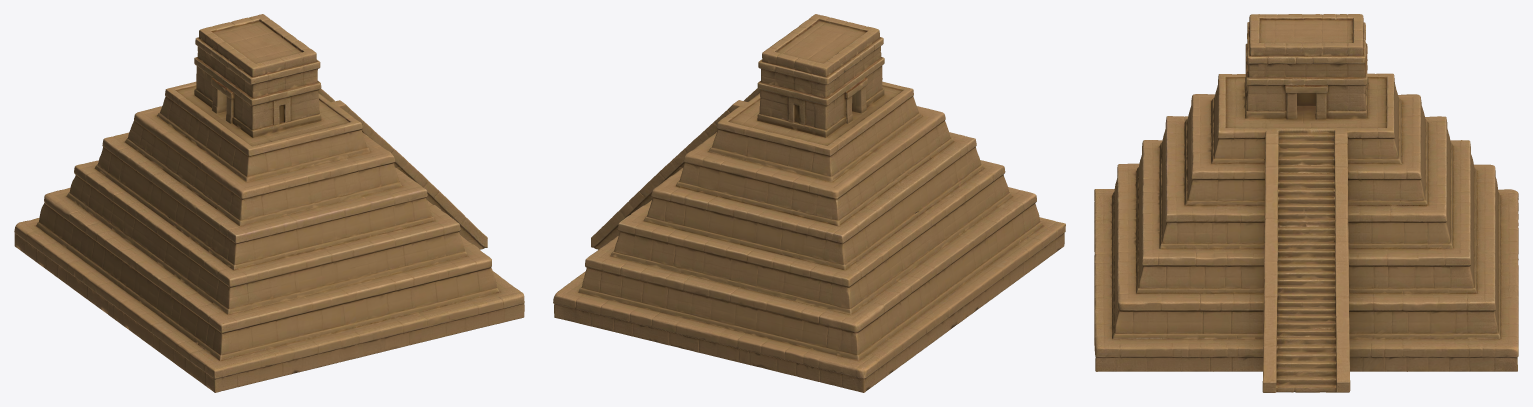
The model's file is templePyramid.glb.
3 renders of one model, left to right at view 1: azimuth 30°, elevation 25°; view 2: azimuth 150°, elevation 25°; view 3: azimuth 270°, elevation 25°, orthographic. The views are drawn at different scales.
Visible parts, largest first — view 1: tripo_node_46eff1d8-e10b-42fd-816e-c469bfd94f6a; view 2: tripo_node_46eff1d8-e10b-42fd-816e-c469bfd94f6a; view 3: tripo_node_46eff1d8-e10b-42fd-816e-c469bfd94f6a.
Part boxes in pixels (left/top/right/bottom): tripo_node_46eff1d8-e10b-42fd-816e-c469bfd94f6a: left=14, top=14, right=524, bottom=392; tripo_node_46eff1d8-e10b-42fd-816e-c469bfd94f6a: left=553, top=14, right=1065, bottom=392; tripo_node_46eff1d8-e10b-42fd-816e-c469bfd94f6a: left=1094, top=14, right=1518, bottom=392.
Bounding box in the file's own units: 1 × 0.6592 × 0.9876.
1 material, 1 textured.
